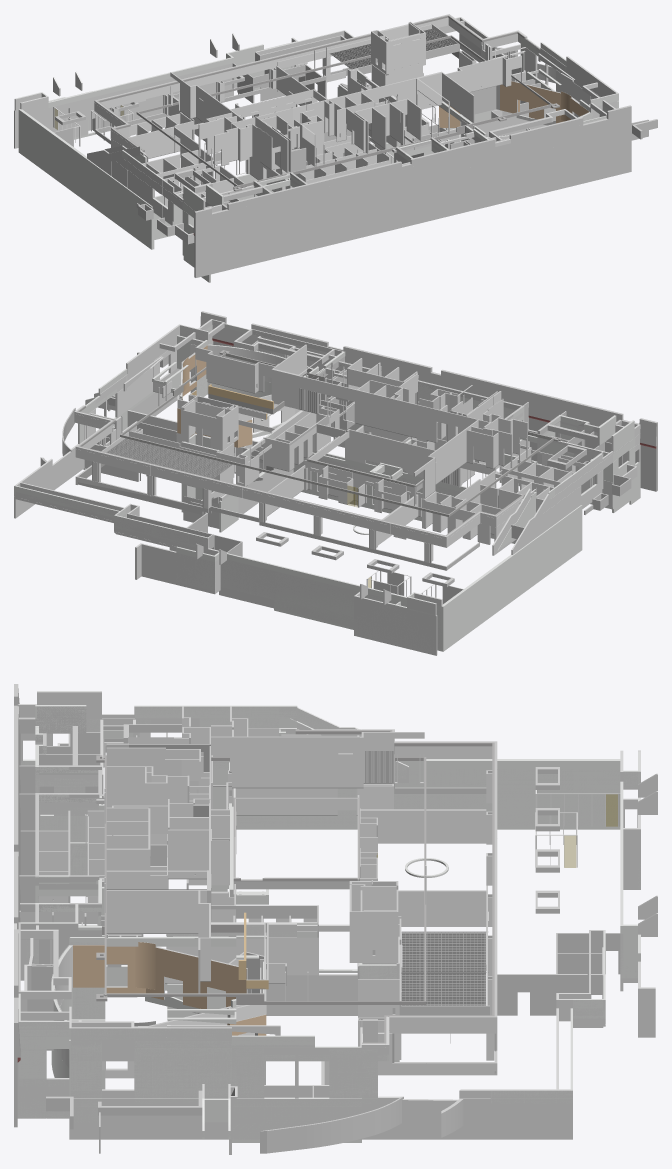
Rendered from enclosure-l1.glb.
3 views of the same model, one above another, from view 1: azimuth 30°, elevation 25°; view 2: azimuth 150°, elevation 25°; view 3: azimuth 270°, elevation 25° (orthographic). The views are drawn at different scales.
Visible parts, largest first — view 1: 13967, 128493, 4508, 13975, 39357, 1619, 4506, 25818 (×2), 13973, 4504, 13971, 14886 (+36 smaller); view 2: 128493, 1619, 39357, 25818 (×2), 128432, 4208, 1976, 4138, 69652, 13967, 25492, 128434 (+36 smaller); view 3: 4138, 128493, 14899, 14901, 69672, 71439, 25553, 130271, 4168, 25772, 39368, 4280 (+66 smaller).
Boxes of the visible parts, left/top/right/bottom form: 13967: left=193, top=113, right=631, bottom=234; 128493: left=18, top=110, right=154, bottom=249; 4508: left=422, top=146, right=631, bottom=222; 13975: left=422, top=128, right=631, bottom=197; 39357: left=194, top=105, right=631, bottom=219; 1619: left=27, top=63, right=233, bottom=137; 4506: left=318, top=197, right=422, bottom=247; 25818 (×2): left=96, top=14, right=448, bottom=108; 13973: left=318, top=179, right=422, bottom=222; 4504: left=212, top=232, right=281, bottom=273; 13971: left=212, top=213, right=281, bottom=248; 14886: left=127, top=162, right=183, bottom=220; 128493: left=440, top=505, right=582, bottom=651; 1619: left=219, top=559, right=440, bottom=648; 39357: left=200, top=311, right=657, bottom=435; 25818 (×2): left=77, top=446, right=445, bottom=547; 128432: left=274, top=565, right=440, bottom=650; 4208: left=354, top=595, right=437, bottom=655; 1976: left=140, top=543, right=215, bottom=594; 4138: left=14, top=392, right=177, bottom=518; 69652: left=298, top=376, right=388, bottom=430; 13967: left=200, top=324, right=657, bottom=446; 25492: left=349, top=430, right=403, bottom=469; 128434: left=293, top=451, right=515, bottom=543; 4138: left=69, top=1089, right=572, bottom=1139; 128493: left=213, top=761, right=620, bottom=829; 14899: left=70, top=1037, right=231, bottom=1090; 14901: left=232, top=1043, right=385, bottom=1090; 69672: left=247, top=737, right=329, bottom=787; 71439: left=106, top=890, right=206, bottom=933; 25553: left=360, top=810, right=486, bottom=843; 130271: left=134, top=1041, right=230, bottom=1090; 4168: left=266, top=974, right=357, bottom=1015; 25772: left=398, top=891, right=486, bottom=925; 39368: left=70, top=1027, right=231, bottom=1045; 4280: left=497, top=974, right=587, bottom=1015.
Bounding box in the file's own units: 74.71 × 15.7 × 54.36.
